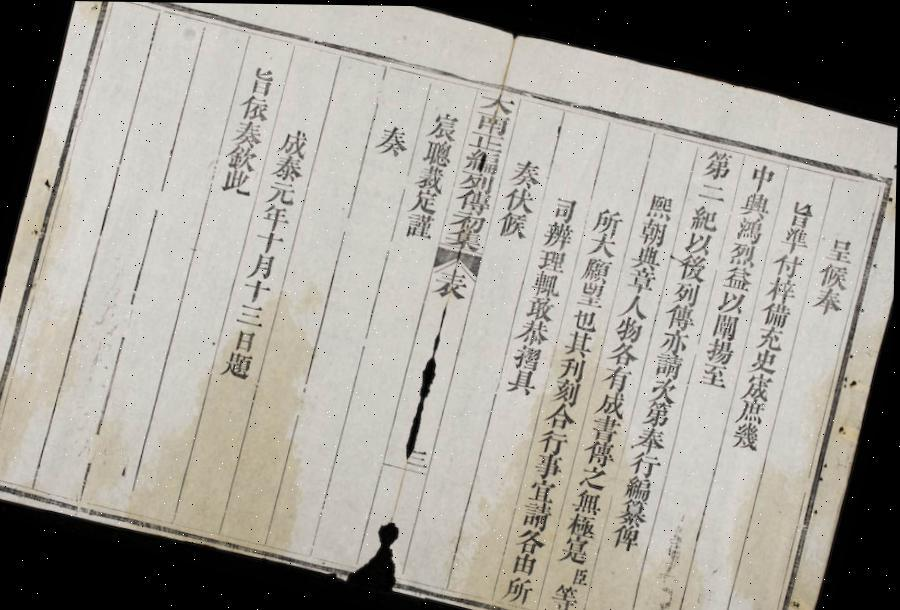c: (431, 264, 475, 303), (372, 119, 414, 159), (699, 143, 739, 182), (425, 106, 464, 142), (507, 154, 546, 190), (462, 143, 504, 176), (228, 116, 268, 150), (217, 166, 258, 199), (626, 446, 667, 479), (442, 224, 487, 254), (452, 184, 494, 216), (472, 106, 514, 138), (540, 217, 578, 252), (276, 124, 314, 159), (235, 91, 274, 125), (558, 532, 597, 566), (519, 497, 558, 531), (686, 200, 725, 234), (674, 249, 713, 283), (762, 271, 802, 304), (500, 182, 540, 215), (244, 62, 280, 98), (810, 282, 848, 316), (776, 220, 814, 254), (502, 572, 540, 606), (729, 418, 767, 452), (740, 368, 778, 402), (412, 160, 450, 194), (590, 203, 628, 237), (544, 398, 582, 432), (220, 348, 258, 382), (532, 448, 570, 482), (516, 315, 555, 348), (816, 257, 855, 290), (494, 208, 533, 241), (632, 422, 672, 454), (268, 152, 308, 184), (478, 86, 520, 116), (744, 158, 781, 192), (616, 494, 653, 528), (258, 200, 296, 233), (504, 364, 542, 397), (610, 520, 648, 553), (588, 410, 626, 443), (594, 385, 632, 418), (662, 299, 700, 332), (223, 142, 262, 174), (582, 436, 621, 468), (824, 230, 860, 264), (758, 296, 796, 328), (536, 424, 574, 456), (514, 524, 552, 556), (720, 260, 759, 291), (584, 229, 623, 260), (548, 579, 587, 610), (406, 186, 445, 217), (786, 194, 821, 228), (644, 188, 680, 221), (420, 136, 457, 168), (571, 484, 608, 516), (401, 210, 438, 242), (640, 396, 677, 428), (263, 178, 301, 209), (565, 508, 603, 539), (448, 206, 490, 234), (246, 249, 281, 282), (630, 240, 666, 272), (574, 278, 610, 310), (748, 344, 784, 376), (736, 394, 772, 426), (562, 326, 598, 358), (703, 334, 739, 366), (550, 374, 586, 406), (636, 215, 672, 247), (612, 312, 648, 344), (738, 187, 774, 219), (622, 470, 658, 502), (624, 264, 661, 295), (529, 268, 566, 299), (770, 247, 807, 278), (523, 292, 560, 323), (606, 338, 644, 368), (511, 341, 547, 372), (732, 212, 768, 243), (579, 253, 615, 284), (652, 348, 688, 379), (239, 276, 276, 306), (697, 359, 734, 389), (753, 321, 790, 351), (725, 237, 762, 267), (657, 324, 694, 354), (577, 460, 614, 490), (458, 167, 498, 194), (618, 290, 654, 320), (234, 299, 270, 329), (669, 276, 705, 306), (526, 474, 562, 504), (600, 362, 636, 392), (647, 374, 683, 404), (252, 227, 289, 256), (710, 308, 743, 340), (466, 127, 508, 152), (715, 285, 750, 315), (556, 352, 591, 382), (534, 245, 570, 274), (549, 192, 581, 223), (230, 324, 262, 354), (683, 226, 716, 255), (511, 548, 544, 577), (570, 304, 603, 333), (694, 178, 730, 204), (570, 562, 594, 586), (408, 444, 432, 468)
